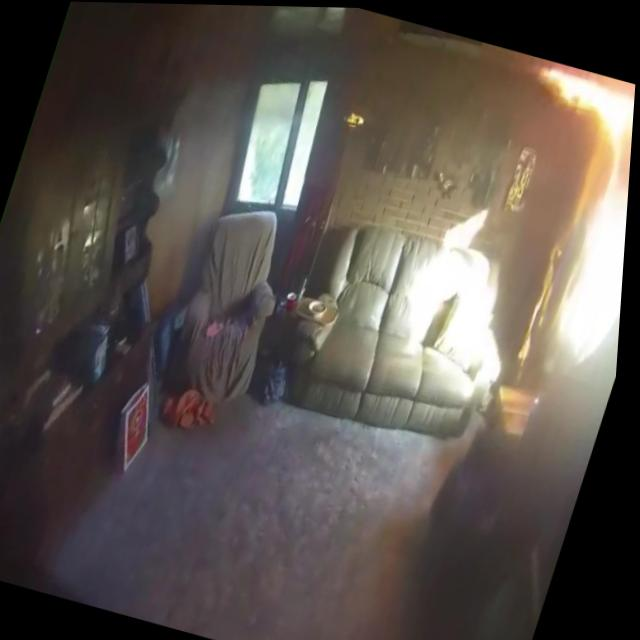fire: (512, 162, 601, 378), (519, 59, 637, 163)
